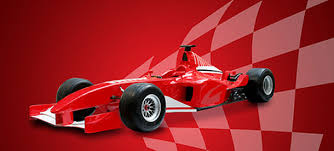FormulaOneCar: (23, 41, 280, 136)
